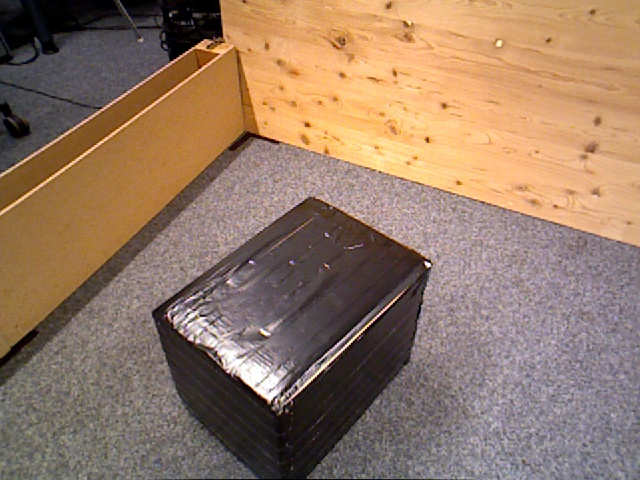push: (158, 202, 429, 480)
